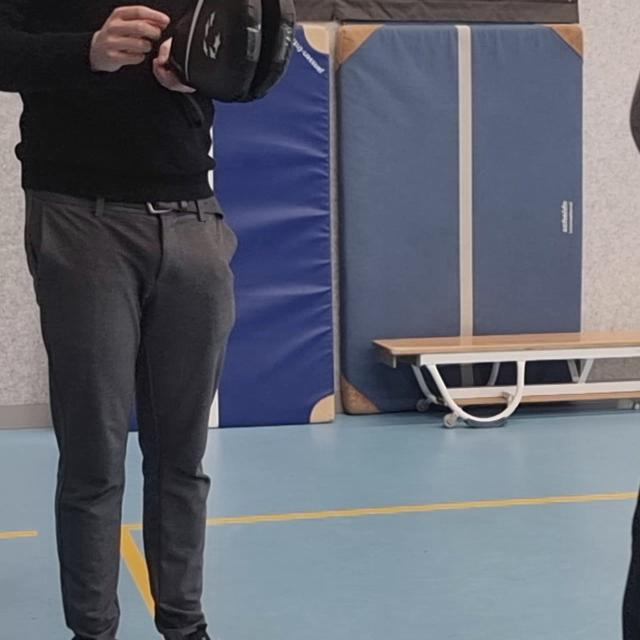paddle: (166, 0, 290, 104)
